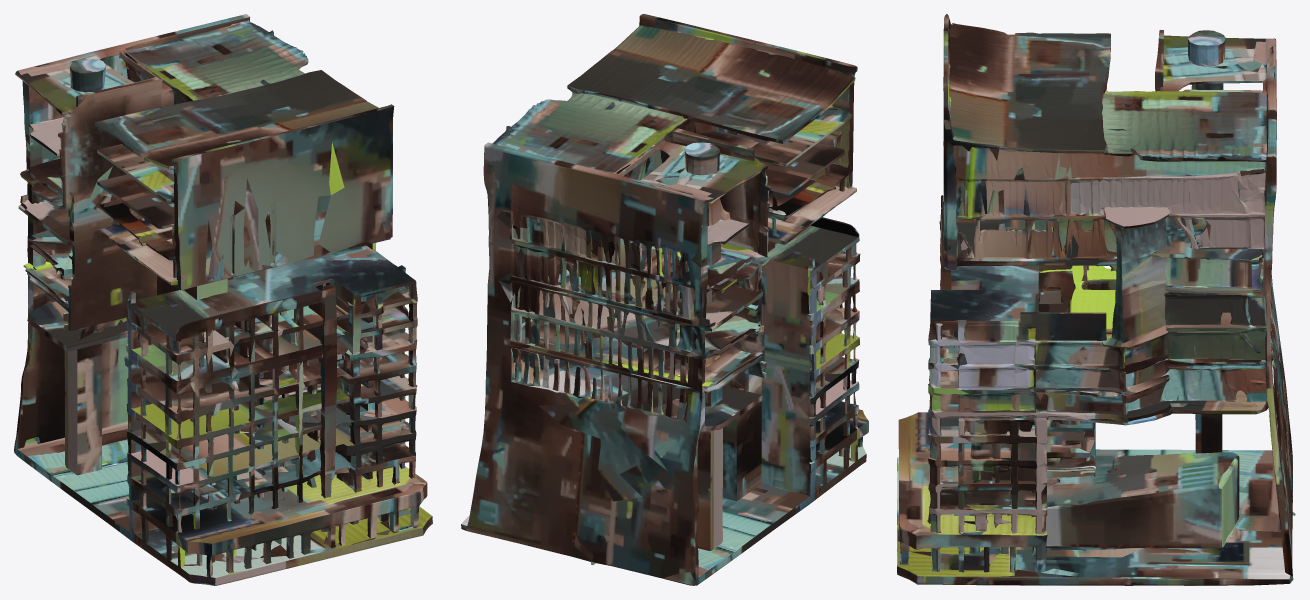
Rendered from benchmark_reference without texture.glb.
The picture shows the model from 3 angles, left to right: view 1: azimuth 30°, elevation 25°; view 2: azimuth 150°, elevation 25°; view 3: azimuth 270°, elevation 25°; orthographic projection. The views are drawn at different scales.
Visible parts, largest first — view 1: world; view 2: world; view 3: world.
Boxes of the visible parts, x1,y1,x2,y2 form: world: (14,14,432,585); world: (461,14,868,585); world: (897,14,1295,585).
Size of the model in its own units: 0.6603 by 0.9955 by 0.8083.
Materials: 1 (1 with a texture image).
